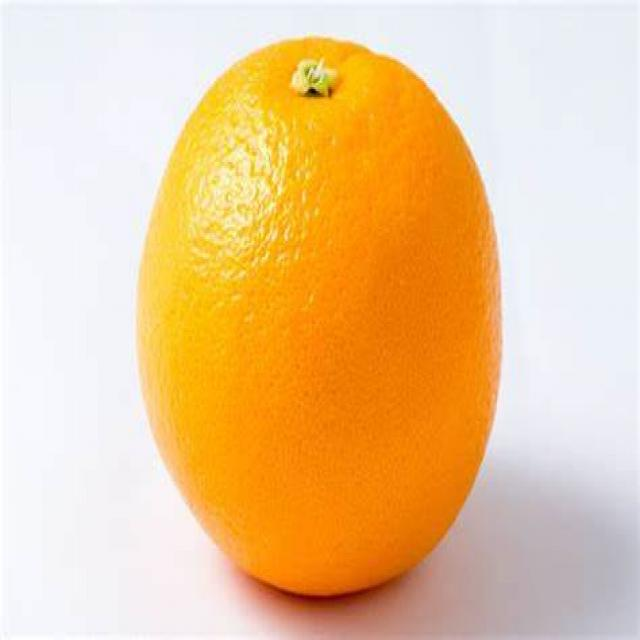Orange: (135, 37, 505, 597)
